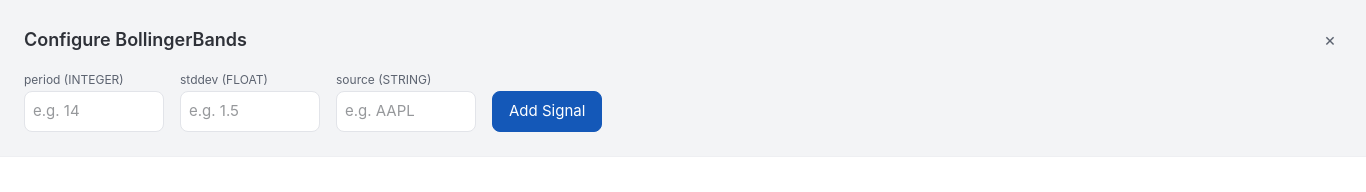
Test: SignalConfigPanel › shows error for invalid float value
The image size is (1366, 192).
Type "14" into the field named "period" at {"x": 94, "y": 111}, box [24, 91, 164, 132]
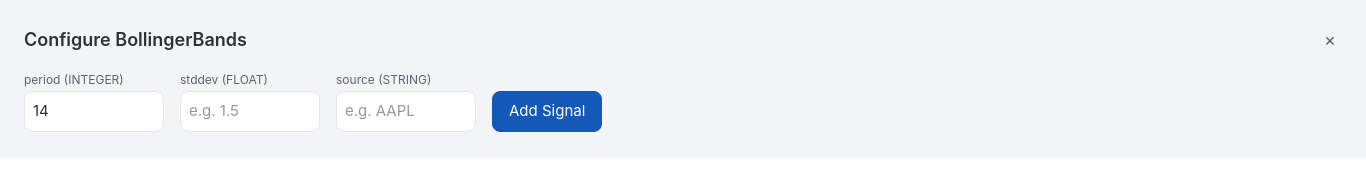
Type "not-a-number" into the field named "stddev" at {"x": 250, "y": 111}, box [180, 91, 320, 132]
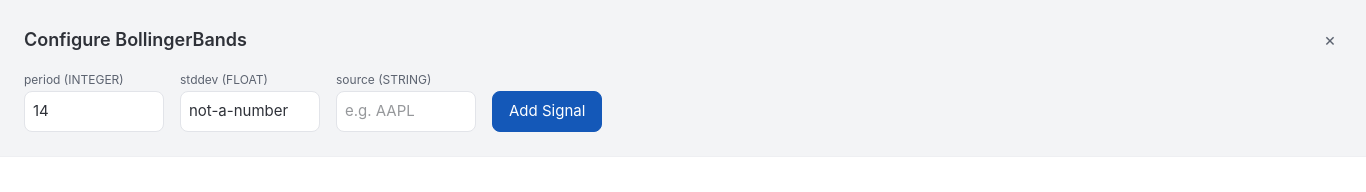
Type "close" into the field named "source" at {"x": 406, "y": 111}, box [336, 91, 476, 132]
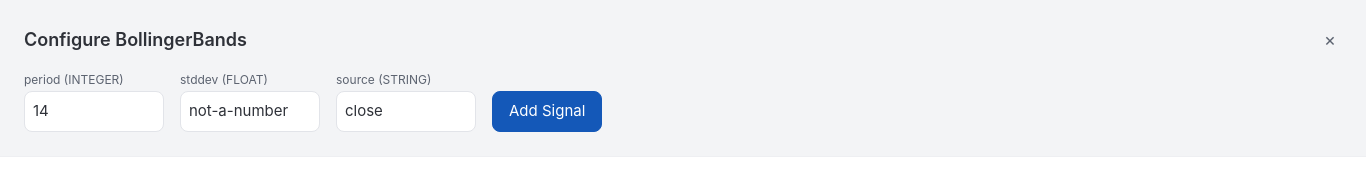
Click the button "Add Signal" at {"x": 547, "y": 111}, box [492, 91, 602, 132]
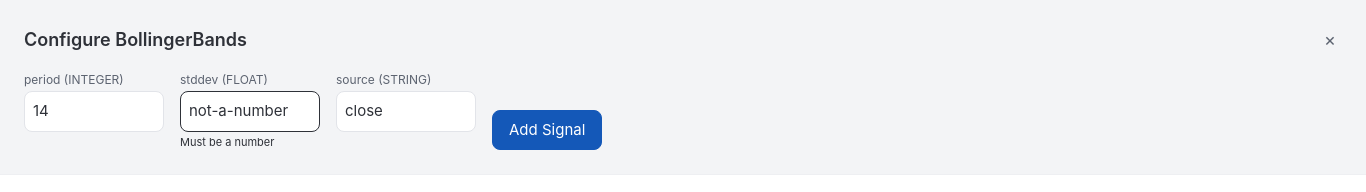
Result: the message reads "Must be a number" at [180, 134, 274, 148]
